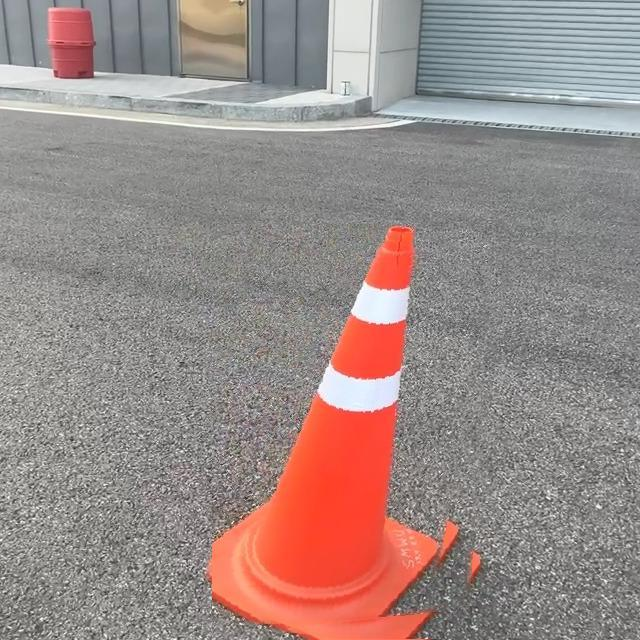fallen_object: (182, 307, 573, 640)
